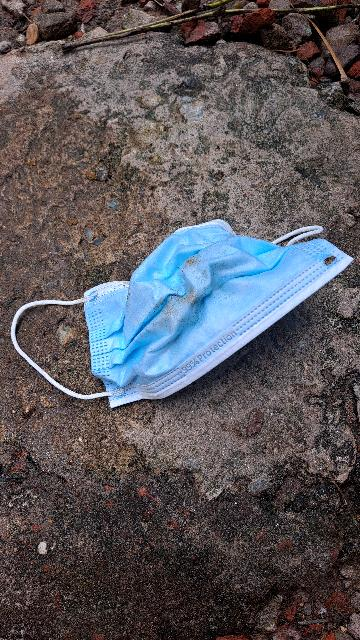mask: (0, 215, 360, 413)
